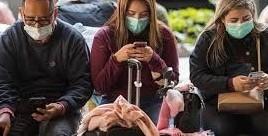with_mask: (20, 4, 54, 37), (223, 6, 253, 36), (120, 3, 151, 32)
